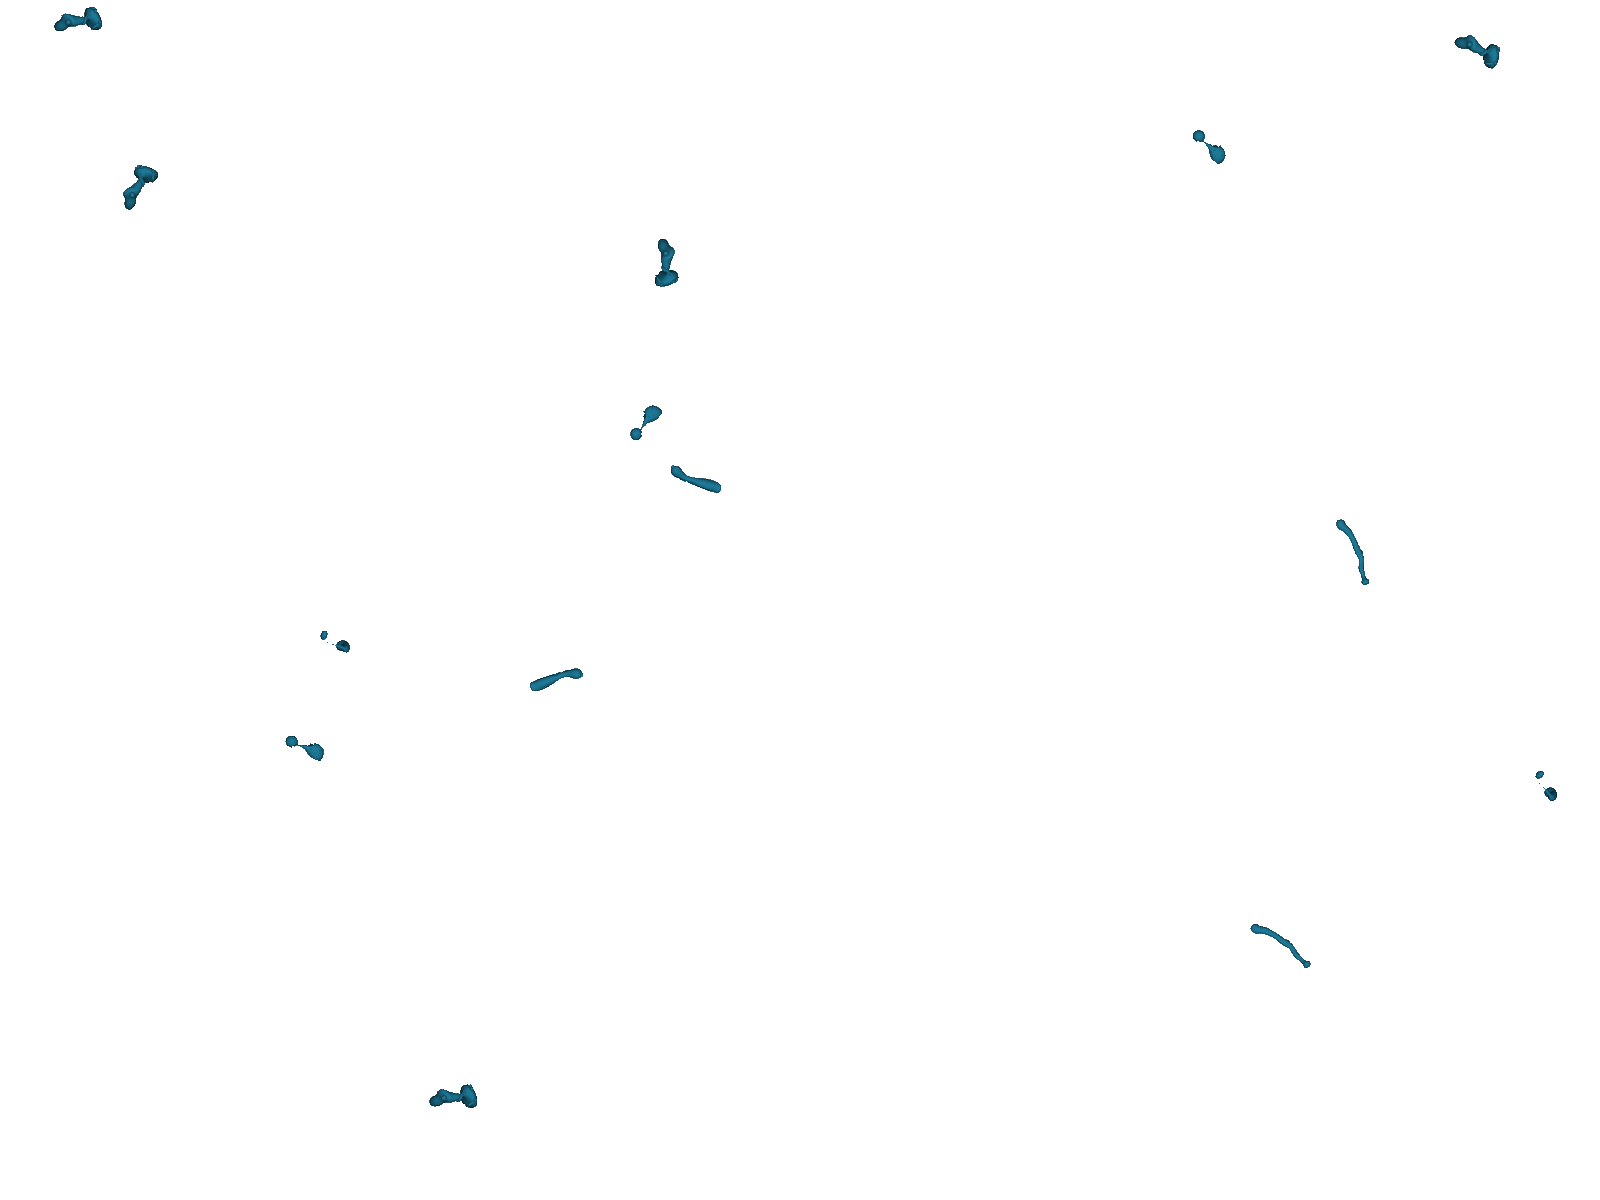Detached ligament: (1246, 909, 1315, 979), (1334, 512, 1373, 590), (113, 159, 163, 217), (1448, 26, 1506, 72), (666, 461, 727, 498), (49, 3, 105, 42), (525, 663, 586, 697), (425, 1080, 480, 1116), (1187, 124, 1232, 166), (624, 400, 665, 446), (649, 234, 682, 289), (281, 730, 329, 763), (1526, 766, 1566, 804), (315, 628, 354, 654)
